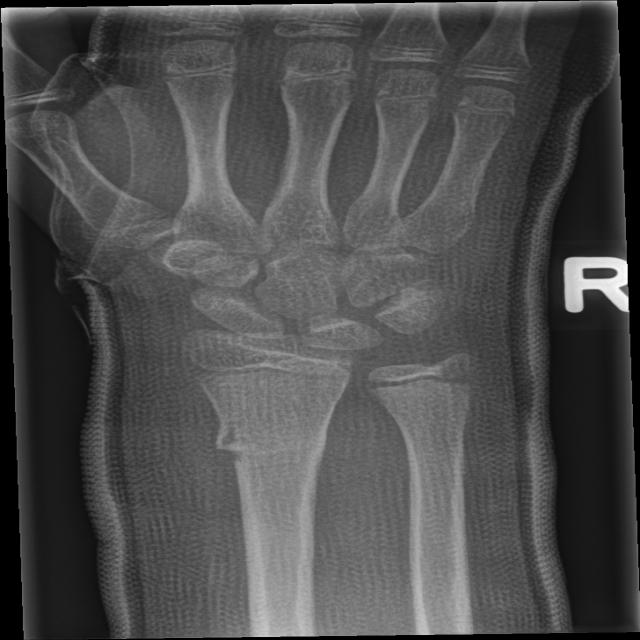radius fracture: (198, 393, 306, 524)
